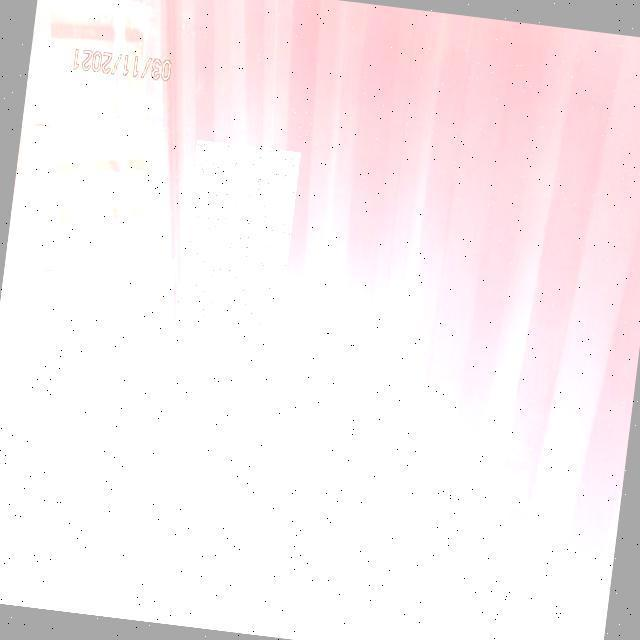dent: (176, 141, 301, 332)
